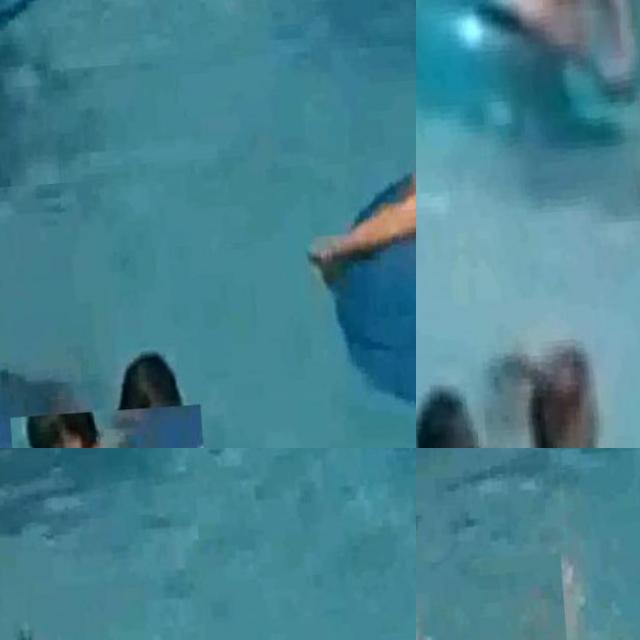drowning: (416, 552, 575, 640), (473, 330, 543, 426), (21, 336, 102, 409)
swimming: (333, 108, 416, 324), (111, 339, 208, 448), (8, 403, 209, 448), (540, 350, 615, 448), (569, 553, 640, 640), (416, 401, 481, 448)
